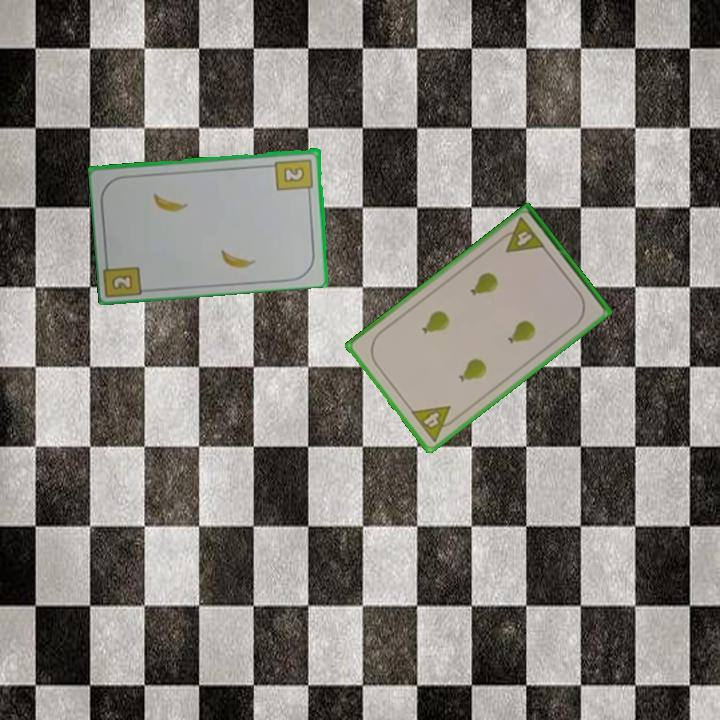2b: (272, 155, 316, 197), (108, 271, 136, 293)
4p: (407, 402, 461, 445), (495, 214, 548, 256)
